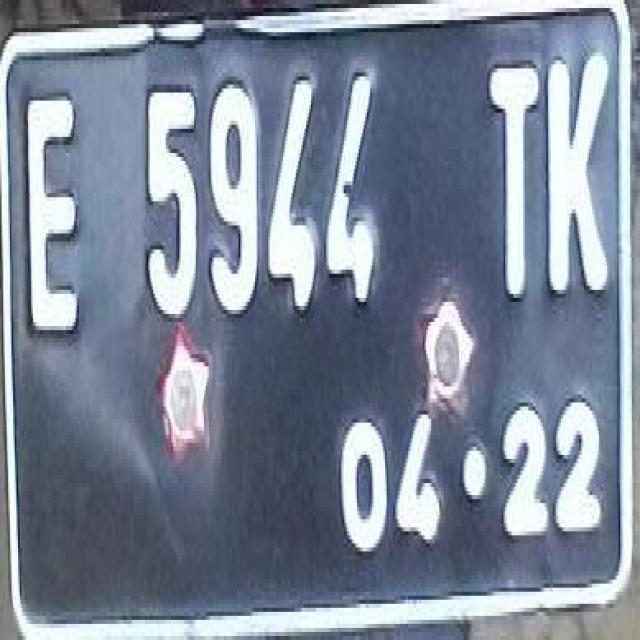4: (320, 58, 381, 328), (266, 65, 320, 342)
5: (139, 70, 205, 340)
9: (205, 72, 262, 338)
E: (21, 78, 94, 360)
K: (544, 44, 614, 326)
T: (484, 46, 544, 312)
